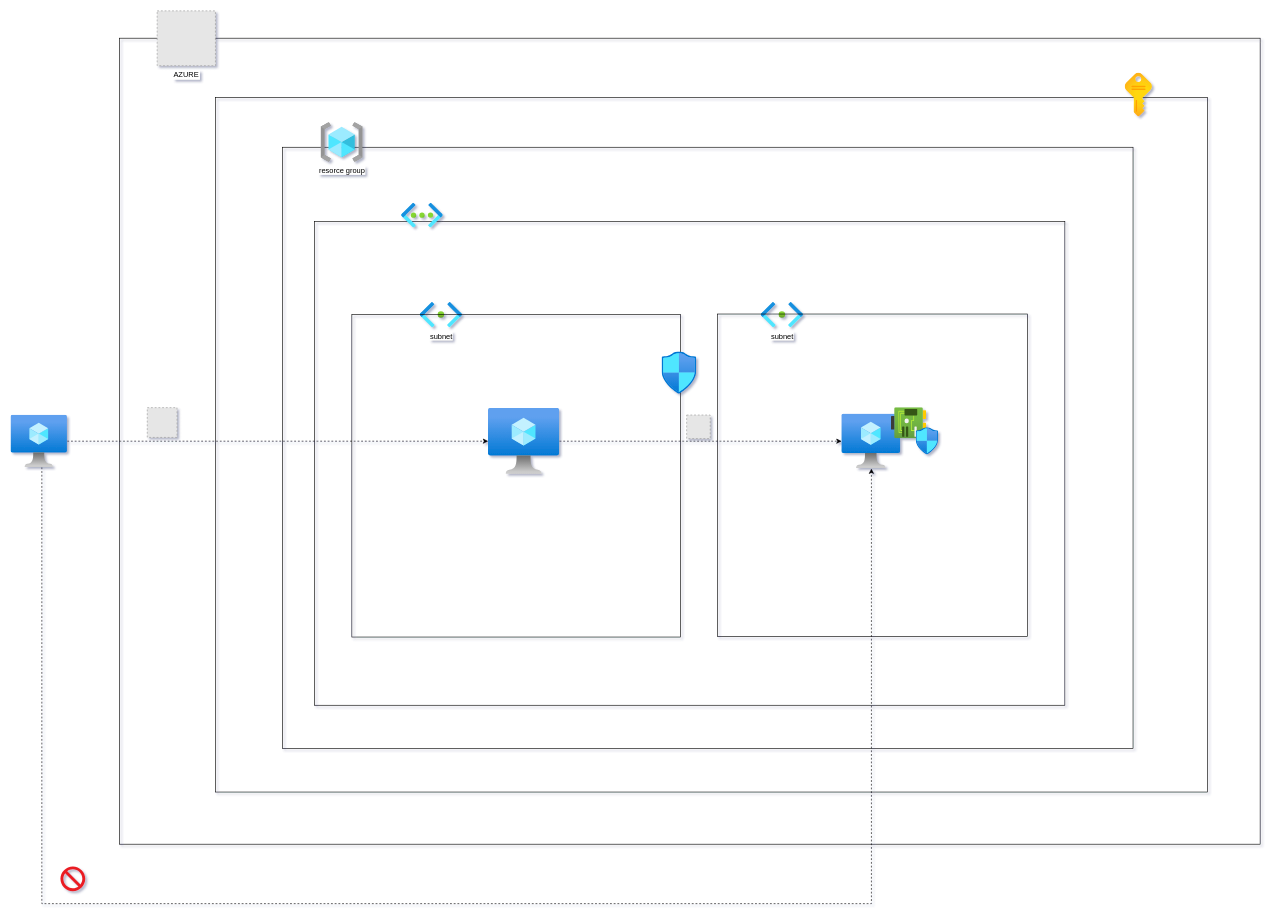
Image size: 1275x923. Some labels were removed from this diagram. Grey dashed boxes stand in for pictures. Here are the shapes that lost their labels. From the top down, the centre of each, then its label:
At point (1138, 95): "Subscription".
At point (422, 215): "virtual network".
